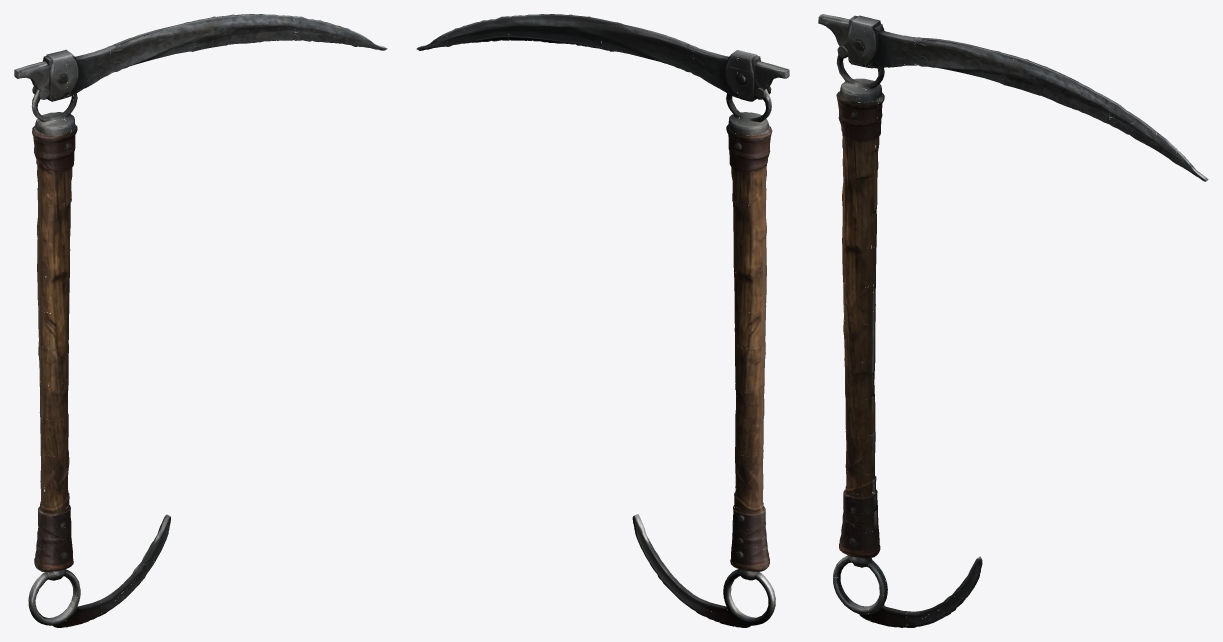
Rendered from w_hook_scythe.glb.
3 renders of one model, left to right at view 1: azimuth 30°, elevation 25°; view 2: azimuth 150°, elevation 25°; view 3: azimuth 330°, elevation 25°, orthographic. The views are drawn at different scales.
Visible parts, largest first — view 1: geometry_0; view 2: geometry_0; view 3: geometry_0.
Boxes of the visible parts, x1,y1,x2,y2 form: geometry_0: (14, 14, 387, 627); geometry_0: (416, 14, 789, 627); geometry_0: (818, 14, 1208, 627).
Size of the model in its own units: 0.5049 by 0.75 by 0.0504.
Materials: 1 (1 with a texture image).
